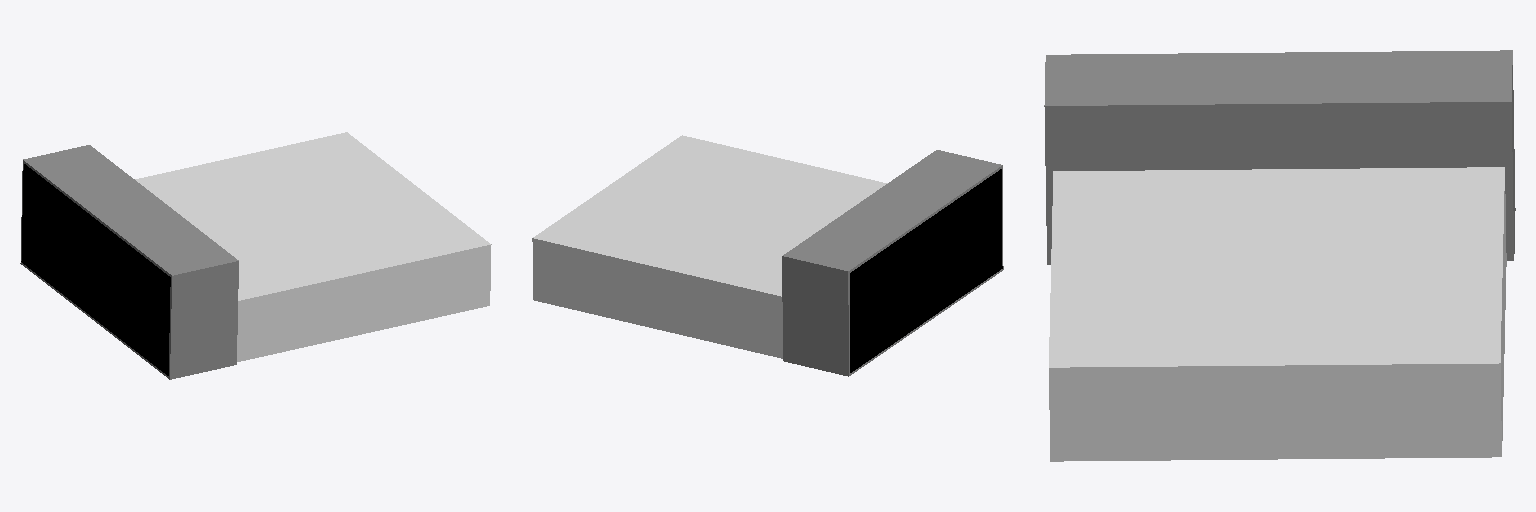
robot.urdf — panda_kinect:
<?xml version="1.0" encoding="utf-8"?>
<!-- =================================================================================== -->
<!-- |    This document was autogenerated by xacro from panda_azure_kinect.urdf.xacro  | -->
<!-- |    EDITING THIS FILE BY HAND IS NOT RECOMMENDED                                 | -->
<!-- =================================================================================== -->
<robot name="panda_kinect">
  <!-- THE ROBOT -->
  <link name="panda_link0">
    <visual>
      <geometry>
        <mesh filename="package://franka_description/meshes/visual/link0.dae"/>
      </geometry>
    </visual>
    <collision>
      <geometry>
        <mesh filename="package://franka_description/meshes/collision/link0.stl"/>
      </geometry>
    </collision>
  </link>
  <link name="panda_link1">
    <visual>
      <geometry>
        <mesh filename="package://franka_description/meshes/visual/link1.dae"/>
      </geometry>
    </visual>
    <collision>
      <geometry>
        <mesh filename="package://franka_description/meshes/collision/link1.stl"/>
      </geometry>
    </collision>
  </link>
  <joint name="panda_joint1" type="revolute">
    <safety_controller k_position="100.0" k_velocity="40.0" soft_lower_limit="-2.8973" soft_upper_limit="2.8973"/>
    <origin rpy="0 0 0" xyz="0 0 0.333"/>
    <parent link="panda_link0"/>
    <child link="panda_link1"/>
    <axis xyz="0 0 1"/>
    <limit effort="87" lower="-2.8973" upper="2.8973" velocity="2.1750"/>
  </joint>
  <link name="panda_link2">
    <visual>
      <geometry>
        <mesh filename="package://franka_description/meshes/visual/link2.dae"/>
      </geometry>
    </visual>
    <collision>
      <geometry>
        <mesh filename="package://franka_description/meshes/collision/link2.stl"/>
      </geometry>
    </collision>
  </link>
  <joint name="panda_joint2" type="revolute">
    <safety_controller k_position="100.0" k_velocity="40.0" soft_lower_limit="-1.7628" soft_upper_limit="1.7628"/>
    <origin rpy="-1.57079632679 0 0" xyz="0 0 0"/>
    <parent link="panda_link1"/>
    <child link="panda_link2"/>
    <axis xyz="0 0 1"/>
    <limit effort="87" lower="-1.7628" upper="1.7628" velocity="2.1750"/>
  </joint>
  <link name="panda_link3">
    <visual>
      <geometry>
        <mesh filename="package://franka_description/meshes/visual/link3.dae"/>
      </geometry>
    </visual>
    <collision>
      <geometry>
        <mesh filename="package://franka_description/meshes/collision/link3.stl"/>
      </geometry>
    </collision>
  </link>
  <joint name="panda_joint3" type="revolute">
    <safety_controller k_position="100.0" k_velocity="40.0" soft_lower_limit="-2.8973" soft_upper_limit="2.8973"/>
    <origin rpy="1.57079632679 0 0" xyz="0 -0.316 0"/>
    <parent link="panda_link2"/>
    <child link="panda_link3"/>
    <axis xyz="0 0 1"/>
    <limit effort="87" lower="-2.8973" upper="2.8973" velocity="2.1750"/>
  </joint>
  <link name="panda_link4">
    <visual>
      <geometry>
        <mesh filename="package://franka_description/meshes/visual/link4.dae"/>
      </geometry>
    </visual>
    <collision>
      <geometry>
        <mesh filename="package://franka_description/meshes/collision/link4.stl"/>
      </geometry>
    </collision>
  </link>
  <joint name="panda_joint4" type="revolute">
    <safety_controller k_position="100.0" k_velocity="40.0" soft_lower_limit="-3.0718" soft_upper_limit="-0.0698"/>
    <origin rpy="1.57079632679 0 0" xyz="0.0825 0 0"/>
    <parent link="panda_link3"/>
    <child link="panda_link4"/>
    <axis xyz="0 0 1"/>
    <limit effort="87" lower="-3.0718" upper="-0.0698" velocity="2.1750"/>
  </joint>
  <link name="panda_link5">
    <visual>
      <geometry>
        <mesh filename="package://franka_description/meshes/visual/link5.dae"/>
      </geometry>
    </visual>
    <collision>
      <geometry>
        <mesh filename="package://franka_description/meshes/collision/link5.stl"/>
      </geometry>
    </collision>
  </link>
  <joint name="panda_joint5" type="revolute">
    <safety_controller k_position="100.0" k_velocity="40.0" soft_lower_limit="-2.8973" soft_upper_limit="2.8973"/>
    <origin rpy="-1.57079632679 0 0" xyz="-0.0825 0.384 0"/>
    <parent link="panda_link4"/>
    <child link="panda_link5"/>
    <axis xyz="0 0 1"/>
    <limit effort="12" lower="-2.8973" upper="2.8973" velocity="2.6100"/>
  </joint>
  <link name="panda_link6">
    <visual>
      <geometry>
        <mesh filename="package://franka_description/meshes/visual/link6.dae"/>
      </geometry>
    </visual>
    <collision>
      <geometry>
        <mesh filename="package://franka_description/meshes/collision/link6.stl"/>
      </geometry>
    </collision>
  </link>
  <joint name="panda_joint6" type="revolute">
    <safety_controller k_position="100.0" k_velocity="40.0" soft_lower_limit="-0.0175" soft_upper_limit="3.7525"/>
    <origin rpy="1.57079632679 0 0" xyz="0 0 0"/>
    <parent link="panda_link5"/>
    <child link="panda_link6"/>
    <axis xyz="0 0 1"/>
    <limit effort="12" lower="-0.0175" upper="3.7525" velocity="2.6100"/>
  </joint>
  <link name="panda_link7">
    <visual>
      <geometry>
        <mesh filename="package://franka_description/meshes/visual/link7.dae"/>
      </geometry>
    </visual>
    <collision>
      <geometry>
        <mesh filename="package://franka_description/meshes/collision/link7.stl"/>
      </geometry>
    </collision>
  </link>
  <joint name="panda_joint7" type="revolute">
    <safety_controller k_position="100.0" k_velocity="40.0" soft_lower_limit="-2.8973" soft_upper_limit="2.8973"/>
    <origin rpy="1.57079632679 0 0" xyz="0.088 0 0"/>
    <parent link="panda_link6"/>
    <child link="panda_link7"/>
    <axis xyz="0 0 1"/>
    <limit effort="12" lower="-2.8973" upper="2.8973" velocity="2.6100"/>
  </joint>
  
  <link name="ft_sensor_link">
    <visual>
      <geometry>
        <mesh filename="package://authoring/meshes/force_torque_sensor.dae"/>
      </geometry>
    </visual>
    <collision>
      <geometry>
        <mesh filename="package://authoring/meshes/force_torque_sensor.stl"/>
      </geometry>
    </collision>
  </link>
  <joint name="ft_sensor_joint" type="fixed">
    <origin rpy="0 0 0" xyz="0 0 0.062"/>
    <parent link="panda_link7"/>
    <child link="ft_sensor_link"/>
    <axis xyz="0 0 0"/>
  </joint>
  
  <link name="panda_link8"/>
  <joint name="panda_joint8" type="fixed">
    <!--<origin rpy="0 0 0" xyz="0 0 0.107"/>-->
    <origin rpy="0 0 0" xyz="0 0 0.11"/>
    <!--Added offset for FT sensor-->
    <parent link="ft_sensor_link"/>
    <child link="panda_link8"/>
    <axis xyz="0 0 0"/>
  </joint>
  <joint name="panda_hand_joint" type="fixed">
    <parent link="panda_link8"/>
    <child link="panda_hand"/>
    <origin rpy="0 0 -0.785398163397" xyz="0 0 0"/>
  </joint>
  <link name="panda_hand">
    <visual>
      <geometry>
        <mesh filename="package://franka_description/meshes/visual/hand.dae"/>
      </geometry>
    </visual>
    <collision>
      <geometry>
        <mesh filename="package://franka_description/meshes/collision/hand.stl"/>
      </geometry>
    </collision>
  </link>
  <link name="panda_leftfinger">
    <visual>
      <geometry>
        <mesh filename="package://franka_description/meshes/visual/finger.dae"/>
      </geometry>
    </visual>
    <collision>
      <geometry>
        <mesh filename="package://franka_description/meshes/collision/finger.stl"/>
      </geometry>
    </collision>
  </link>
  <link name="panda_rightfinger">
    <visual>
      <origin rpy="0 0 3.14159265359" xyz="0 0 0"/>
      <geometry>
        <mesh filename="package://franka_description/meshes/visual/finger.dae"/>
      </geometry>
    </visual>
    <collision>
      <origin rpy="0 0 3.14159265359" xyz="0 0 0"/>
      <geometry>
        <mesh filename="package://franka_description/meshes/collision/finger.stl"/>
      </geometry>
    </collision>
  </link>
  <joint name="panda_finger_joint1" type="prismatic">
    <parent link="panda_hand"/>
    <child link="panda_leftfinger"/>
    <origin rpy="0 0 0" xyz="0 0 0.0584"/>
    <axis xyz="0 1 0"/>
    <limit effort="20" lower="0.0" upper="0.04" velocity="0.2"/>
  </joint>
  <joint name="panda_finger_joint2" type="prismatic">
    <parent link="panda_hand"/>
    <child link="panda_rightfinger"/>
    <origin rpy="0 0 0" xyz="0 0 0.0584"/>
    <axis xyz="0 -1 0"/>
    <limit effort="20" lower="0.0" upper="0.04" velocity="0.2"/>
    <mimic joint="panda_finger_joint1"/>
  </joint>
  <material name="black">
    <color rgba="0. 0. 0. 1"/>
  </material>
  <material name="dark_grey">
    <color rgba="0.1 0.1 0.1 1"/>
  </material>
  <material name="grey">
    <color rgba="0.6 0.6 0.6 1"/>
  </material>
  <material name="white">
    <color rgba="0.9 0.9 0.9 1"/>
  </material>
  <link name="camera_body">
    <visual>
      <origin xyz="0. 0. 0."/>
      <geometry>
        <box size="0.0994 0.0996 0.023"/>
      </geometry>
      <material name="white"/>
    </visual>
  </link>
  <link name="camera_base">
    <visual>
      <origin xyz="-0.013 0. 0."/>
      <geometry>
        <box size="0.026 0.103 0.039"/>
      </geometry>
      <material name="grey"/>
    </visual>
  </link>
  <link name="camera_visor">
    <visual>
      <origin xyz="-0.0128 0. 0."/>
      <geometry>
        <box size="0.026 0.101 0.037"/>
      </geometry>
      <material name="black"/>
    </visual>
  </link>
  <joint name="fake_base" type="fixed">
    <parent link="panda_link6"/>
    <child link="camera_base"/>
    <!--<origin xyz="-0.032 0.038 0.031" rpy="-2.731 -1.517 -1.209" />-->
    <!--<origin xyz="-0.052 -0.008 -0.071" rpy="-1.553 -0.582 -1.587" />-->
    <!--<origin xyz="0.032 -0.064 0.053" rpy="-0.389 -1.554 2.542" />-->
    <origin rpy="-1.586 0.010 -1.585" xyz="0.156 -0.041 0.00"/>
  </joint>
  <joint name="camera_base_to_body" type="fixed">
    <parent link="camera_base"/>
    <child link="camera_body"/>
    <origin rpy="0. 0. 0." xyz="-0.0757 0. 0.008"/>
  </joint>
  <joint name="camera_base_to_visor" type="fixed">
    <parent link="camera_base"/>
    <child link="camera_visor"/>
    <origin rpy="0. 0. 0." xyz="0. 0. 0."/>
  </joint>
  <!--<xacro:sensor_d435 parent="panda_link8">
		<origin xyz="-0.032 0.038 0.031" rpy="-2.731 -1.517 -1.209" />
	</xacro:sensor_d435>-->
</robot>

--- Render facts (derived) ---
The picture shows the robot from 3 angles, left to right: view 1: azimuth 30°, elevation 25°; view 2: azimuth 150°, elevation 25°; view 3: azimuth 270°, elevation 25°; orthographic projection.
Model panda_kinect with 16 links and 15 joints (7 revolute, 2 prismatic, 6 fixed), rooted at panda_link0, posed all joints at 0 but 1 set to mid-range because 0 is outside their limits (panda_joint4 = -1.57).
Visible links, largest first — view 1: camera_body, camera_base, camera_visor; view 2: camera_body, camera_base, camera_visor; view 3: camera_body, camera_base.
Boxes of the visible links, x1,y1,x2,y2 form: camera_body: (135, 132, 491, 361); camera_base: (20, 145, 238, 379); camera_visor: (21, 164, 170, 375); camera_body: (532, 135, 887, 358); camera_base: (782, 150, 1003, 376); camera_visor: (850, 169, 1002, 372); camera_body: (1049, 167, 1506, 461); camera_base: (1044, 50, 1515, 264).
Size in the robot's own frame: 0.1269 by 0.1038 by 0.0423 metres.
0 mesh visuals loaded from 11 distinct referenced files (none loaded); not drawn: 12 (reference not matched to a file when rendering).